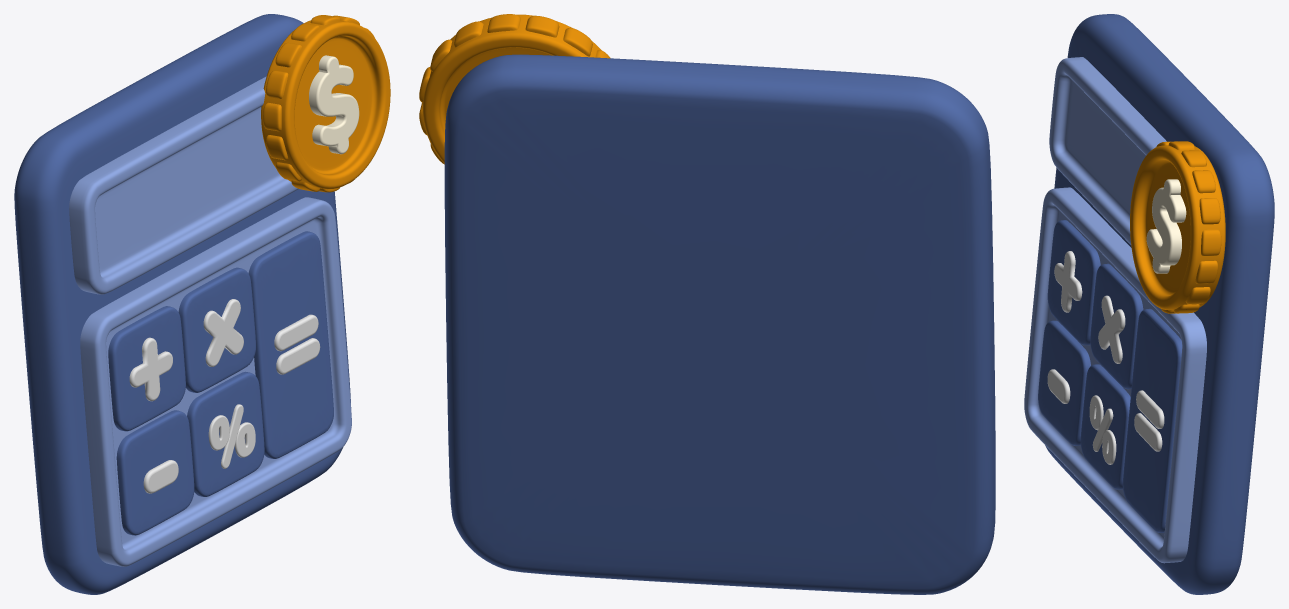
Rendered from calculator44.glb.
3 views of the same model, side by side, from view 1: azimuth 30°, elevation 25°; view 2: azimuth 150°, elevation 25°; view 3: azimuth 270°, elevation 25° (orthographic). The views are drawn at different scales.
Visible parts, largest first — view 1: Plane.018, Plane.019, Plane.020, Cylinder.026, Plane.025, Plane.022, Plane.021, Plane.023, Plane.024, Text.014, Text.013, Text.012 (+3 smaller); view 2: Plane.018, Cylinder.026; view 3: Plane.018, Plane.020, Plane.019, Cylinder.026, Plane.025, Plane.022, Plane.021, Plane.023, Plane.024, Text.014, Text.013, Text.012 (+3 smaller).
Part boxes in pixels (x1,y1,x2,y2): Plane.018: [14, 14, 351, 594]; Plane.019: [69, 76, 298, 294]; Plane.020: [80, 197, 351, 566]; Cylinder.026: [261, 15, 390, 192]; Plane.025: [248, 231, 333, 458]; Plane.022: [116, 410, 194, 535]; Plane.021: [108, 306, 185, 431]; Plane.023: [178, 267, 255, 392]; Plane.024: [187, 371, 264, 496]; Text.014: [309, 55, 359, 154]; Text.013: [274, 314, 320, 374]; Text.012: [208, 404, 255, 468]; Plane.018: [444, 54, 995, 594]; Cylinder.026: [419, 14, 610, 164]; Plane.018: [1045, 14, 1274, 594]; Plane.020: [1024, 187, 1206, 563]; Plane.019: [1049, 57, 1166, 244]; Cylinder.026: [1130, 141, 1225, 313]; Plane.025: [1122, 308, 1182, 532]; Plane.022: [1038, 320, 1090, 445]; Plane.021: [1047, 220, 1100, 345]; Plane.023: [1090, 263, 1143, 389]; Plane.024: [1080, 364, 1130, 489]; Text.014: [1146, 179, 1186, 273]; Text.013: [1134, 390, 1164, 451]; Text.012: [1089, 395, 1116, 464].
Size of the model in its own units: 1.84 by 1.91 by 0.9662.
